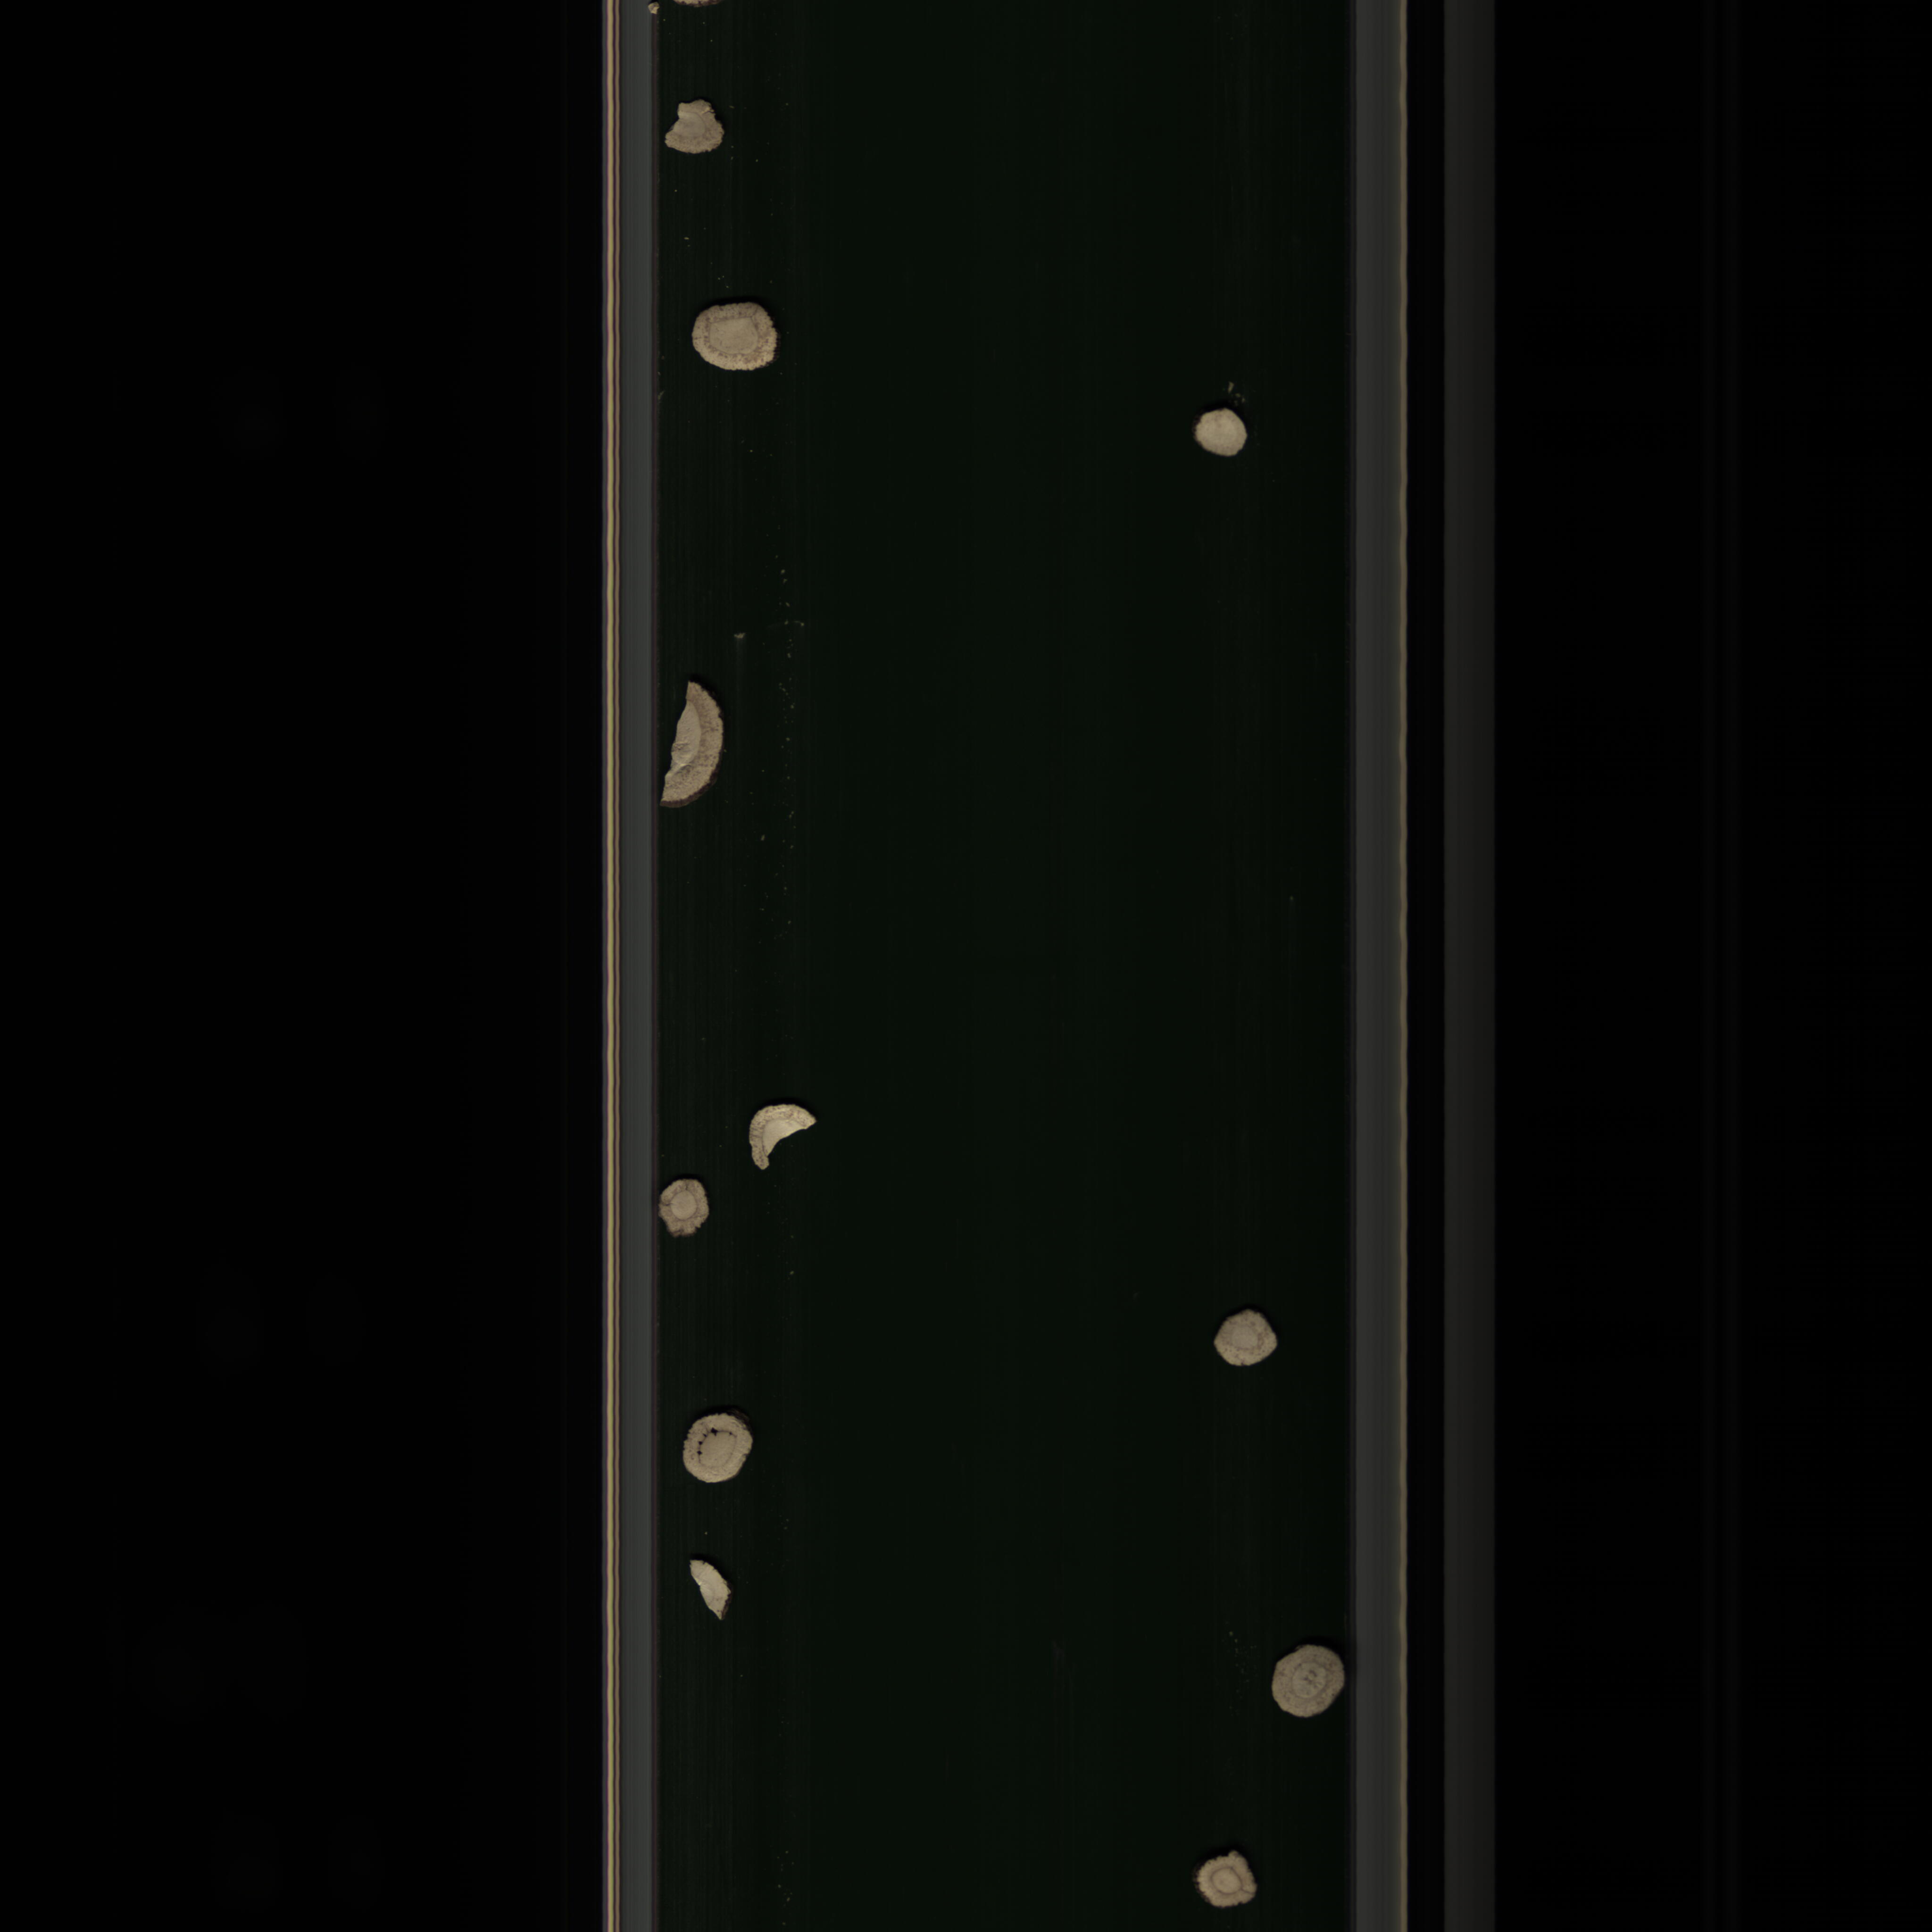debris: (665, 669, 738, 833), (740, 1102, 833, 1178), (662, 97, 741, 159), (685, 1552, 745, 1626)
hole: (683, 1405, 766, 1491)
